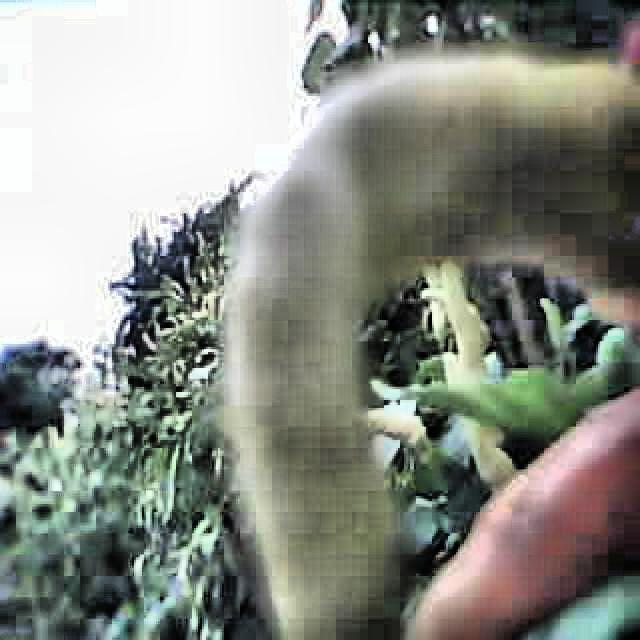Cabai: (192, 58, 454, 640), (438, 378, 638, 640)
